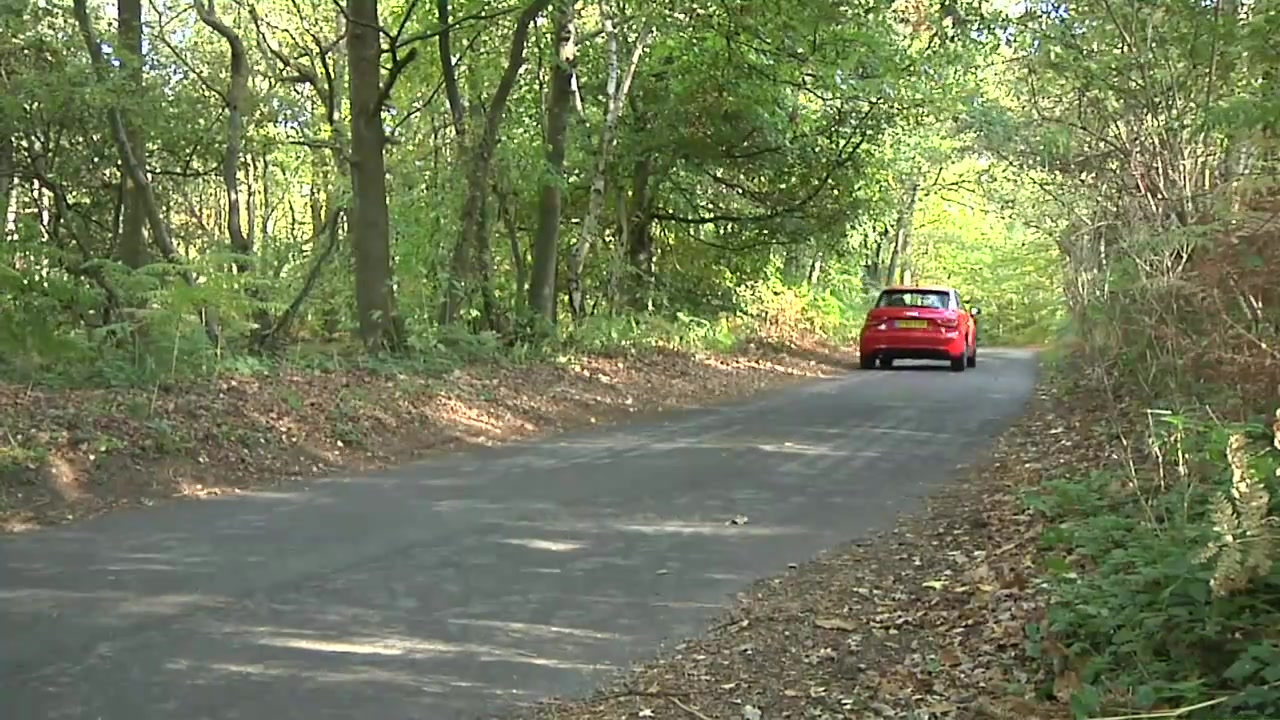car: (855, 284, 985, 374)
